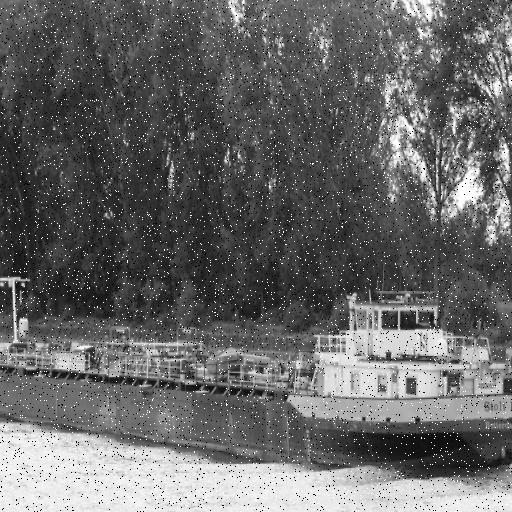tugboat: (1, 268, 512, 485)
